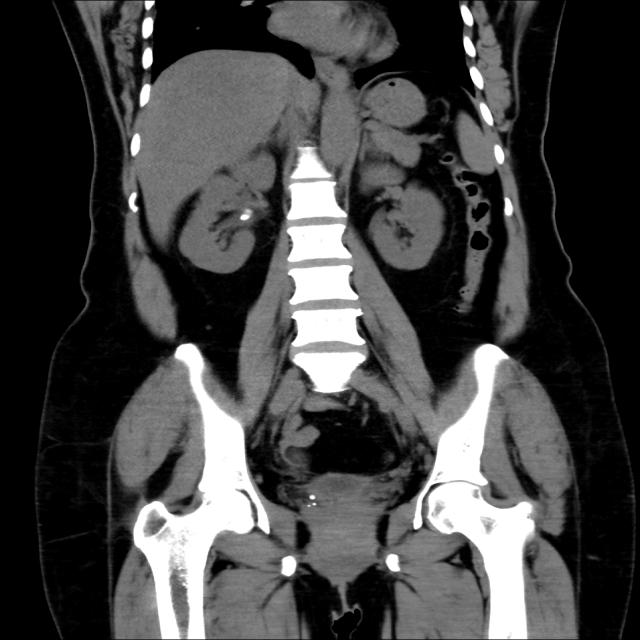kidneystone: (239, 208, 254, 221)
